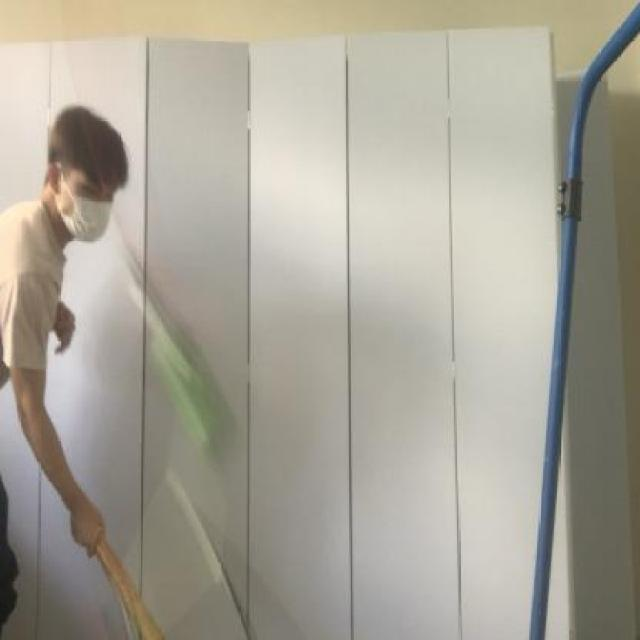baseball: (115, 296, 251, 475)
